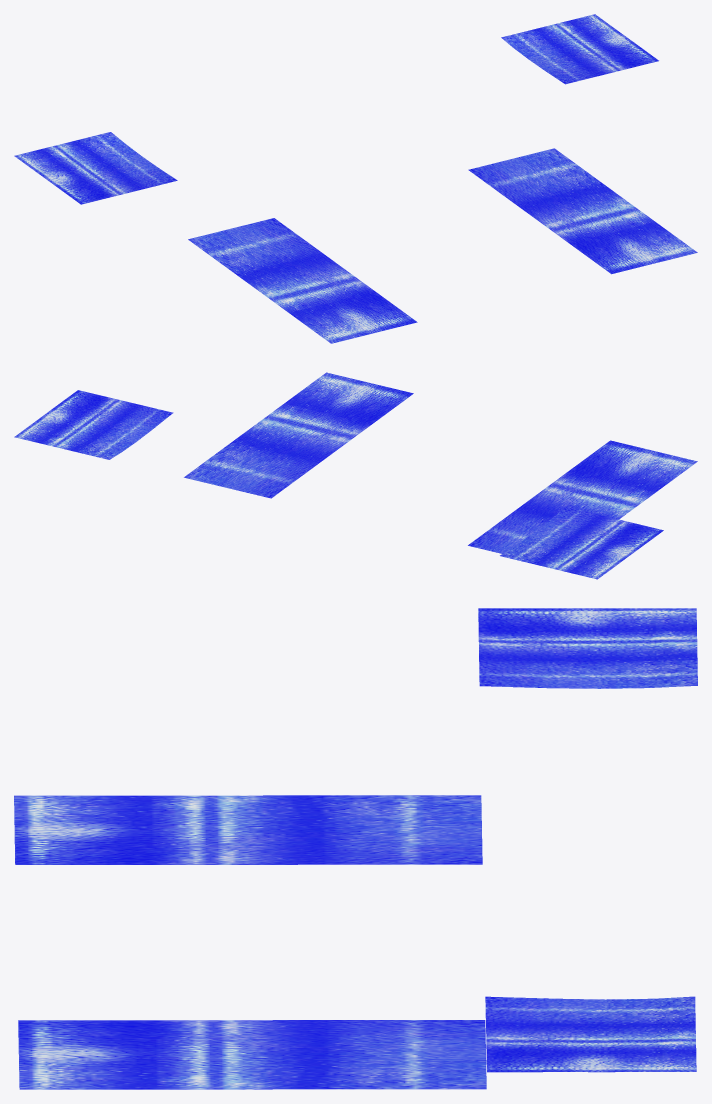
3 views of the same model, one above another, from view 1: azimuth 30°, elevation 25°; view 2: azimuth 150°, elevation 25°; view 3: azimuth 270°, elevation 25° (orthographic). The views are drawn at different scales.
Bounding box in the file's own units: 0.7973 × 0.0809 × 0.4967.
1 material, 1 textured.
